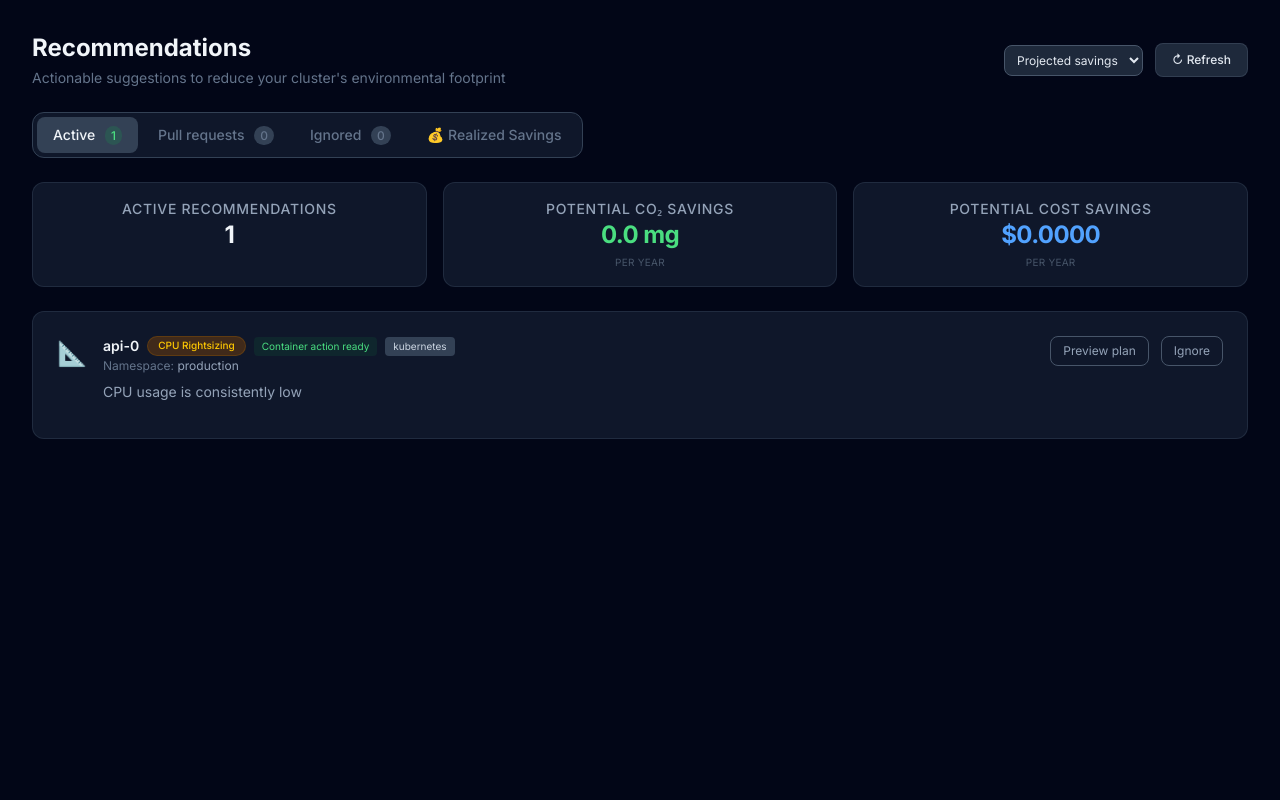
Scenario: RecommendationsPage GitOps plan flow › shows persisted policy checks for an approved preview
What coordinates should you click on to do the following:
click the button "Preview plan"
I would click on:
 (1100, 351)
Its box is left=1050, top=336, right=1149, bottom=366.
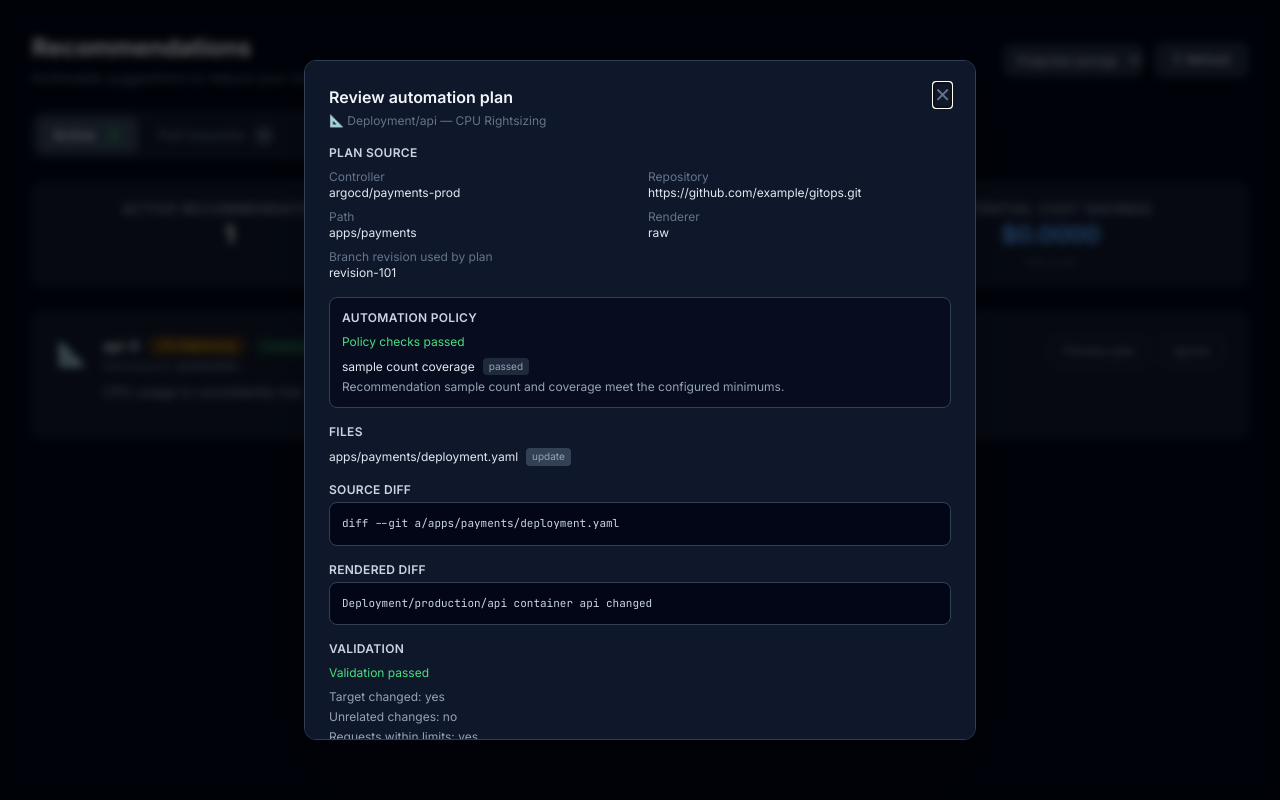
Result: the heading "Automation policy" is shown at left=342, top=310, right=477, bottom=325
Result: the text "Policy checks passed" is shown at left=342, top=334, right=465, bottom=349
Result: the text "sample count coverage" is shown at left=342, top=359, right=475, bottom=375
